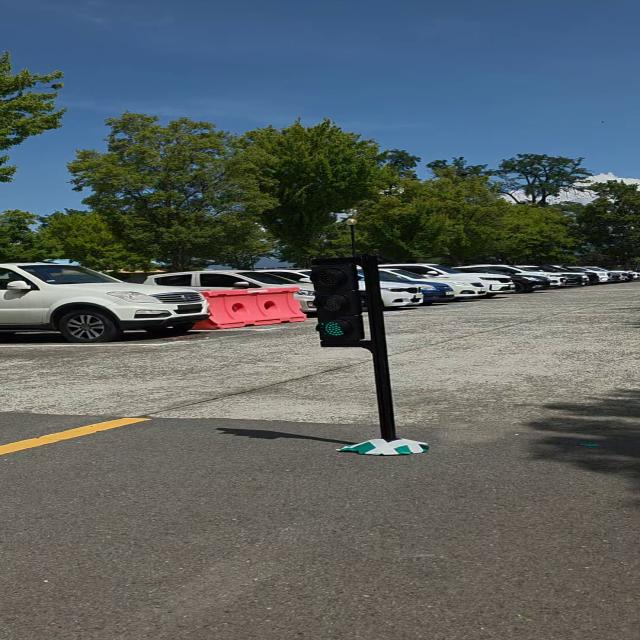green: (308, 259, 369, 348)
